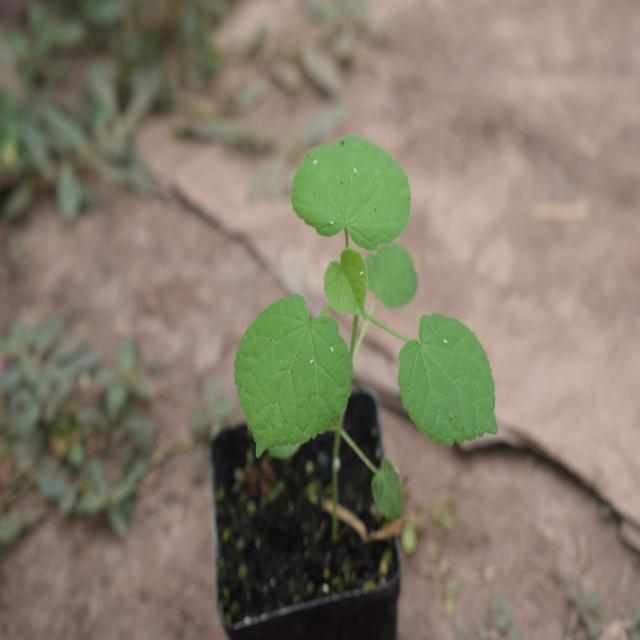abutilon theophrasti: (226, 112, 492, 516)
